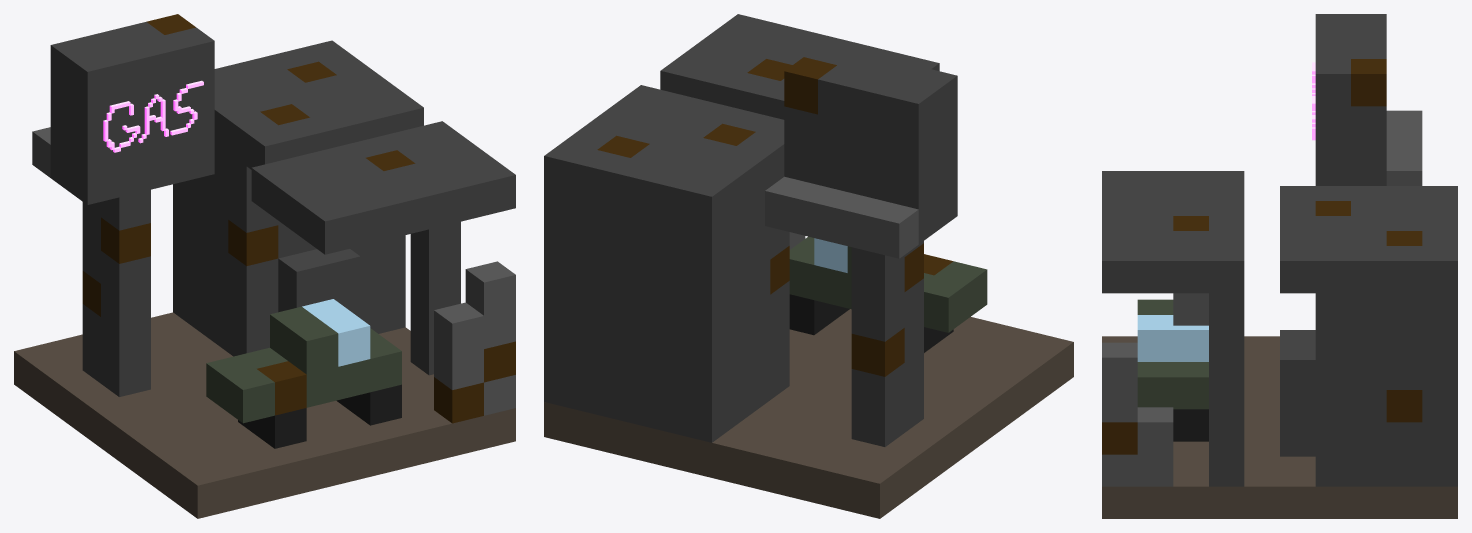
File: gas-0.glb
The picture shows the model from 3 angles, left to right: view 1: azimuth 30°, elevation 25°; view 2: azimuth 150°, elevation 25°; view 3: azimuth 270°, elevation 25°; orthographic projection. The views are drawn at different scales.
Parts seen in each view (by area): view 1: Tile::GasStation.001; view 2: Tile::GasStation.001; view 3: Tile::GasStation.001.
Part boxes in pixels (box(x1,y1,x2,y2)): Tile::GasStation.001: box(14, 14, 515, 518); Tile::GasStation.001: box(544, 14, 1073, 518); Tile::GasStation.001: box(1102, 14, 1457, 518).
Bounding box in the file's own units: 1 × 1.1 × 1.
